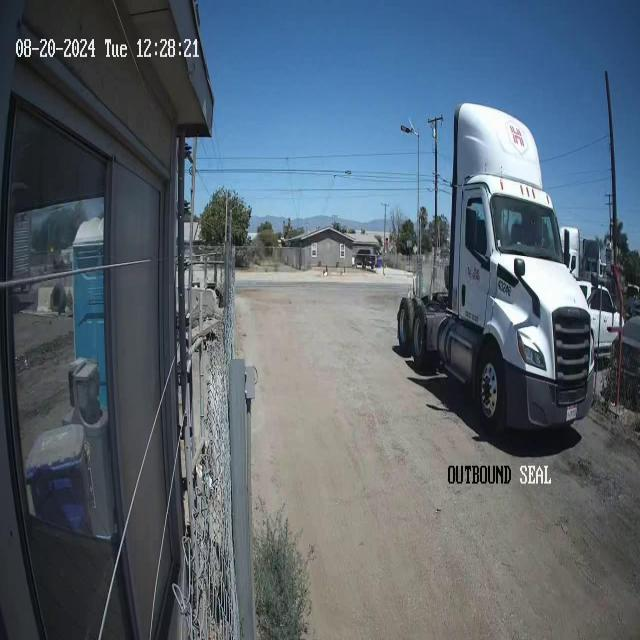TRUCK_IN: (397, 100, 597, 437)
